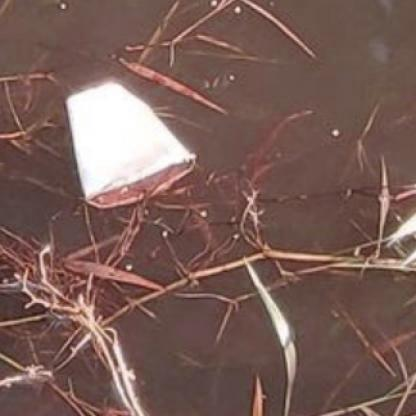Trash: (63, 67, 200, 212)
